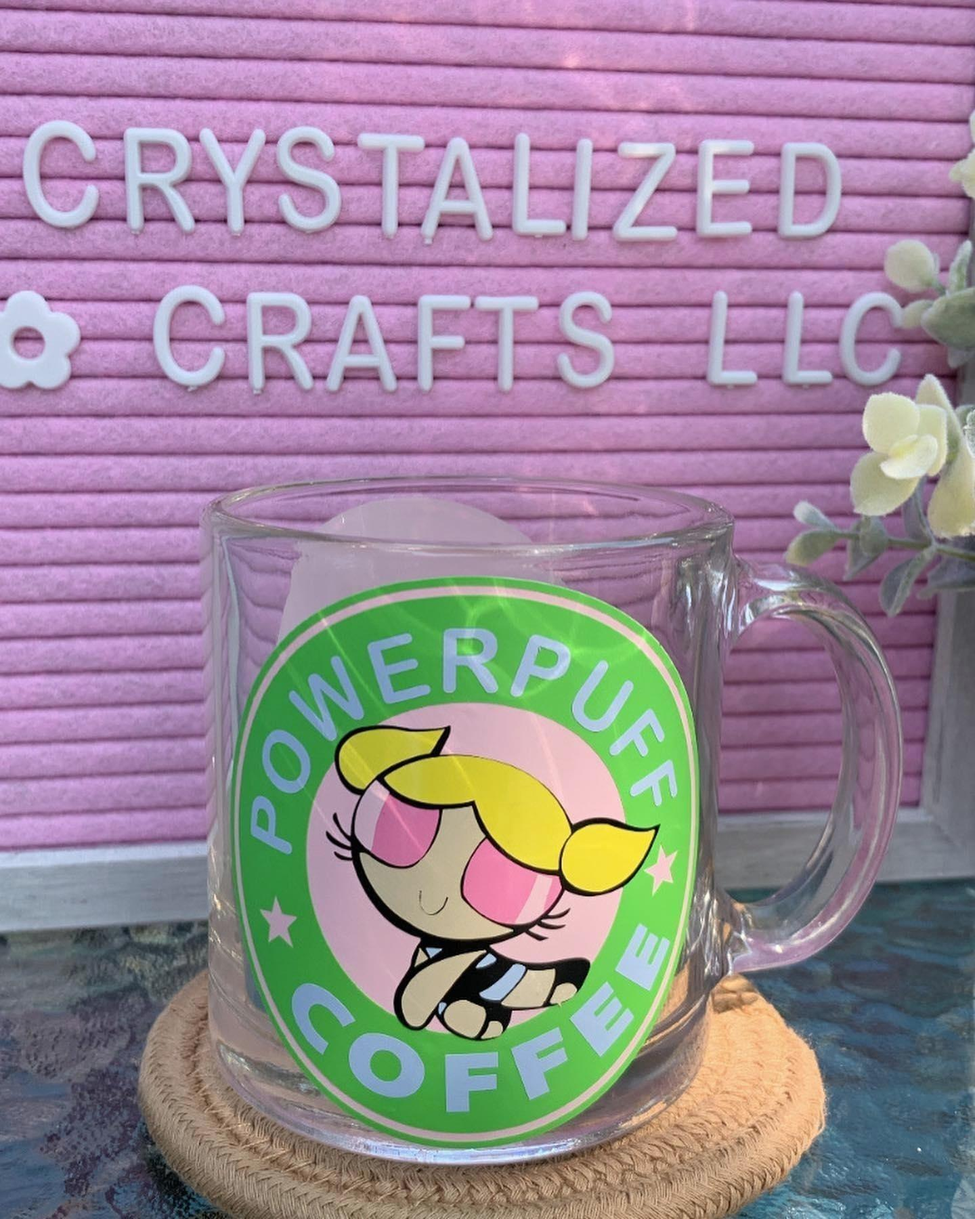glass-mug: (175, 453, 924, 1199)
